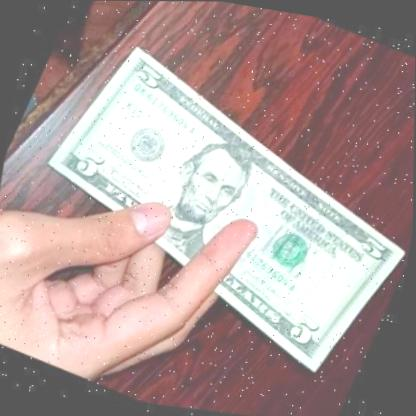dollar_front: (0, 12, 416, 402)
